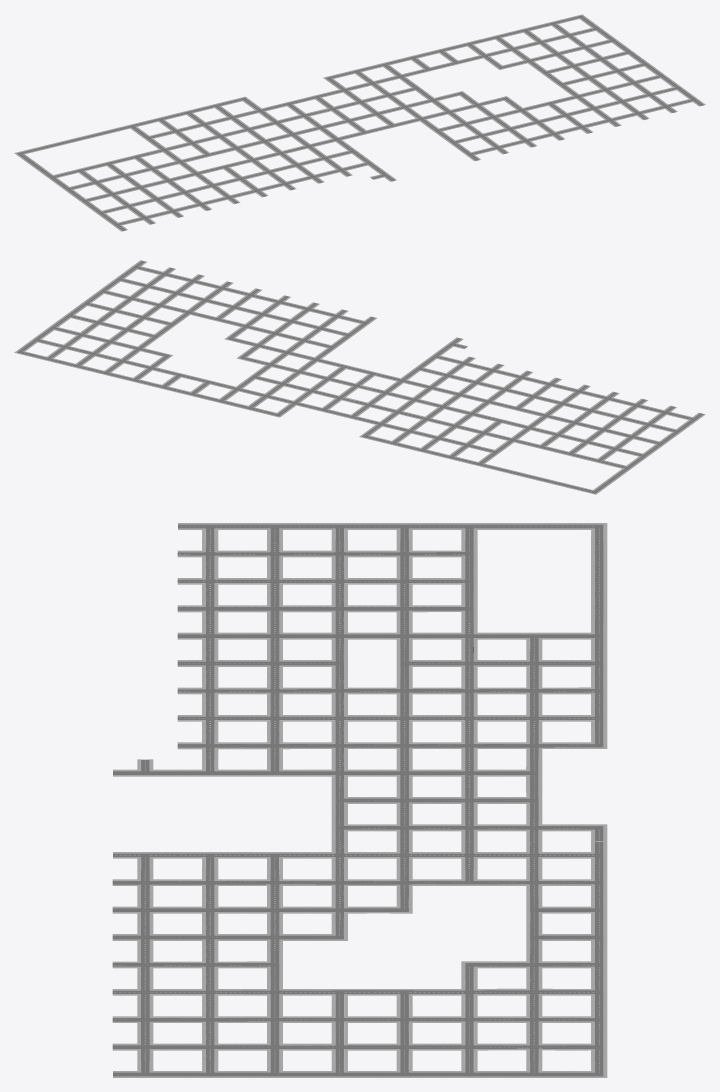
Rendered from roadTexture.glb.
3 views of the same model, one above another, from view 1: azimuth 30°, elevation 25°; view 2: azimuth 150°, elevation 25°; view 3: azimuth 270°, elevation 25° (orthographic). The views are drawn at different scales.
Parts seen in each view (by area): view 1: Plane.001; view 2: Plane.001; view 3: Plane.001.
Boxes of the visible parts, x1,y1,x2,y2 form: Plane.001: (14,14,705,231); Plane.001: (14,260,705,494); Plane.001: (112,523,607,1077).
Bounding box in the file's own units: 405 × 0.0773 × 153.
1 material, 1 textured.
